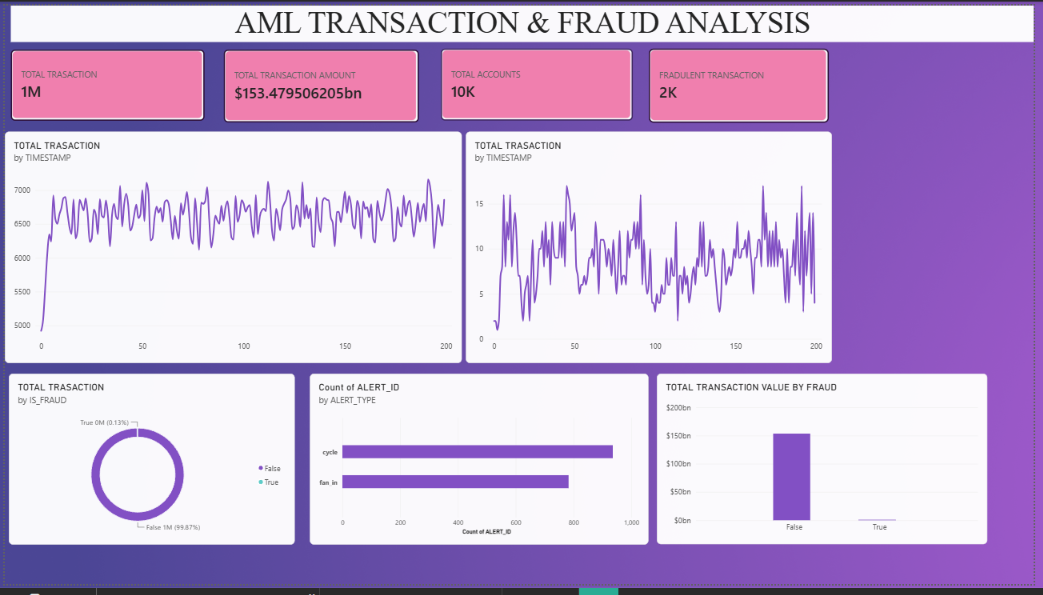

This screenshot's page, from the dashboard's own definition file:
{"tool":"powerbi","page":{"name":"AML Transaction & Fraud analysis","canvas":[1920,1080],"ordinal":0},"visuals":[{"type":"textbox","box":[10.3,0,1910.1,67.9],"z":0},{"type":"cardVisual","fields":{"Data":["Transactions.TOTAL TRASACTION"]},"box":[0,67.9,306.7,148.2],"z":1},{"type":"cardVisual","fields":{"Data":["Transactions.TOTAL TRANSACTION AMOUNT"]},"box":[321.1,67.9,307,150],"z":2},{"type":"cardVisual","fields":{"Data":["Accounts.TOTAL ACCOUNTS"]},"box":[652.5,67.9,307,150],"z":3},{"type":"cardVisual","fields":{"Data":["Transactions.FRADULENT TRANSACTION"]},"box":[979.8,65.9,307,150],"z":4},{"type":"lineChart","fields":{"Category":["Transactions.TIMESTAMP"],"Y":["Transactions.TOTAL TRASACTION"]},"box":[0,235.8,852.8,432.1],"z":5},{"type":"donutChart","fields":{"Category":["Transactions.IS_FRAUD"],"Y":["Transactions.TOTAL TRASACTION"]},"box":[7.5,686.8,534,318.9],"z":6},{"type":"lineChart","fields":{"Category":["Transactions.TIMESTAMP"],"Y":["Transactions.TOTAL TRASACTION"]},"box":[860.4,235.8,683,432.1],"z":7},{"type":"clusteredBarChart","fields":{"Category":["Alerts.ALERT_TYPE"],"Y":["CountNonNull(Alerts.ALERT_ID)"]},"box":[569.8,686.8,632.1,318.9],"z":8},{"type":"clusteredColumnChart","title":"TOTAL TRANSACTION VALUE BY FRAUD","fields":{"Category":["Transactions.IS_FRAUD"],"Y":["Transactions.TOTAL TRANSACTION AMOUNT"]},"box":[1216.6,686.5,616.6,318.4],"z":9}]}

Visuals, with their boxes in screenshot pixels (x1, y1, x2, y2), scaled from the page's 1920x1080 canvas onto the 1043x595 screenshot:
textbox: <region>6, 0, 1042, 37</region>
cardVisual - Transactions.TOTAL TRASACTION: <region>0, 37, 167, 119</region>
cardVisual - Transactions.TOTAL TRANSACTION AMOUNT: <region>174, 37, 341, 120</region>
cardVisual - Accounts.TOTAL ACCOUNTS: <region>354, 37, 521, 120</region>
cardVisual - Transactions.FRADULENT TRANSACTION: <region>532, 36, 699, 119</region>
lineChart - Transactions.TIMESTAMP x Transactions.TOTAL TRASACTION: <region>0, 130, 463, 368</region>
donutChart - Transactions.IS_FRAUD x Transactions.TOTAL TRASACTION: <region>4, 378, 294, 554</region>
lineChart - Transactions.TIMESTAMP x Transactions.TOTAL TRASACTION: <region>467, 130, 838, 368</region>
clusteredBarChart - Alerts.ALERT_TYPE x CountNonNull(Alerts.ALERT_ID): <region>310, 378, 653, 554</region>
"TOTAL TRANSACTION VALUE BY FRAUD" clusteredColumnChart: <region>661, 378, 996, 554</region>
